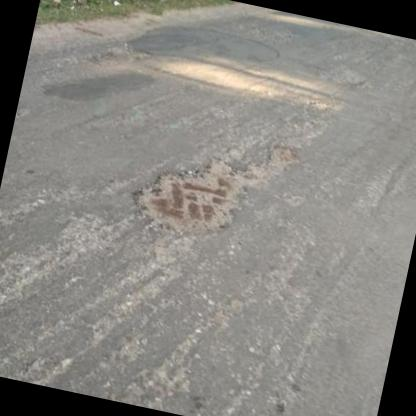pothole: (119, 138, 256, 250), (86, 36, 154, 76), (264, 140, 300, 176)
